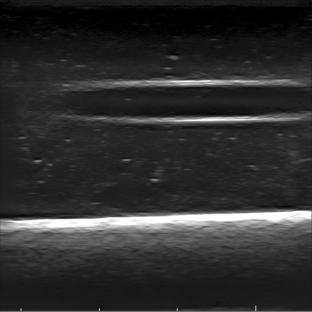vessel: (59, 77, 311, 126)
